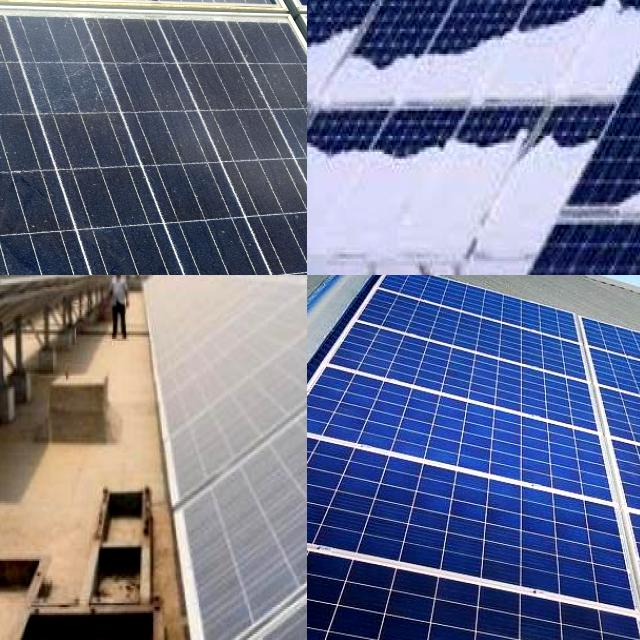crack: (307, 431, 640, 633), (321, 364, 622, 524), (329, 309, 604, 436), (307, 540, 640, 640), (360, 275, 601, 342), (560, 304, 640, 410), (585, 343, 640, 447)
dust: (82, 15, 302, 222), (172, 276, 307, 431), (0, 16, 100, 190), (235, 468, 307, 614)
panel: (383, 34, 511, 104), (517, 2, 591, 109), (307, 16, 377, 106), (439, 122, 533, 178), (525, 116, 603, 178), (360, 128, 450, 180), (597, 151, 640, 229), (602, 0, 640, 79), (307, 124, 349, 183)
